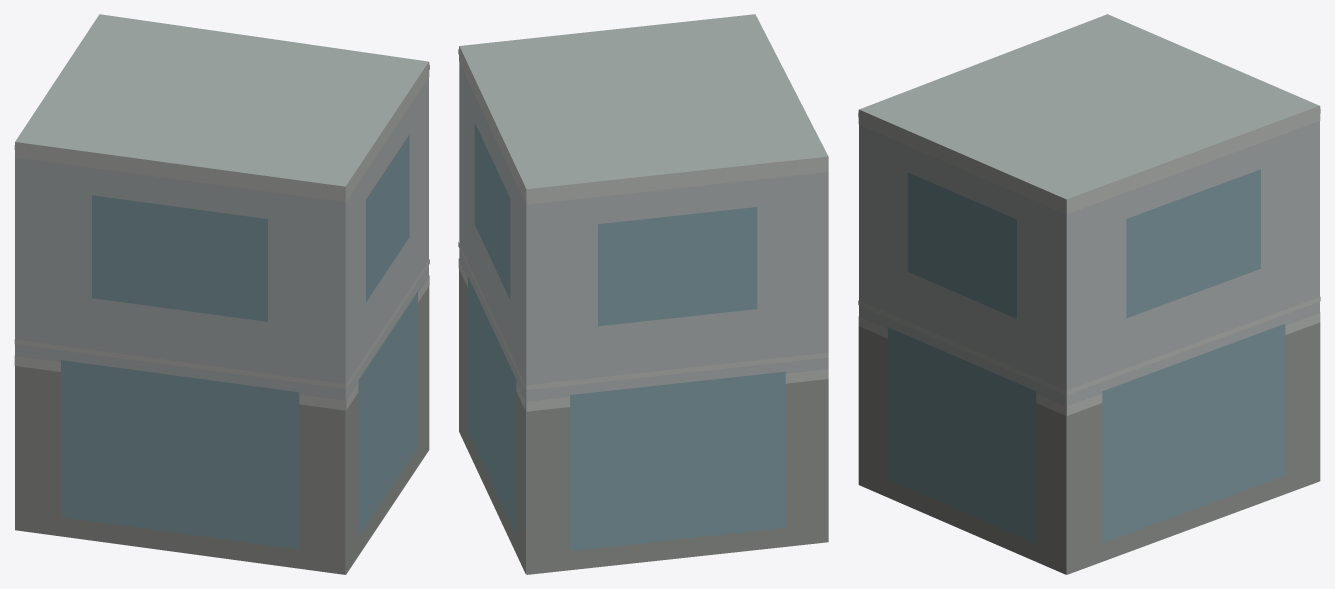
File: survey-upis-32833382.glb
3 renders of one model, left to right at view 1: azimuth 30°, elevation 25°; view 2: azimuth 150°, elevation 25°; view 3: azimuth 270°, elevation 25°, orthographic. The views are drawn at different scales.
Parts seen in each view (by area): view 1: survey-upis-32833382.tmp; view 2: survey-upis-32833382.tmp; view 3: survey-upis-32833382.tmp.
Boxes of the visible parts, x1=… form: survey-upis-32833382.tmp: x1=14, y1=14, x2=429, y2=574; survey-upis-32833382.tmp: x1=458, y1=14, x2=828, y2=574; survey-upis-32833382.tmp: x1=858, y1=14, x2=1320, y2=574.
Size of the model in its own units: 6.48 by 6.1 by 6.81.
